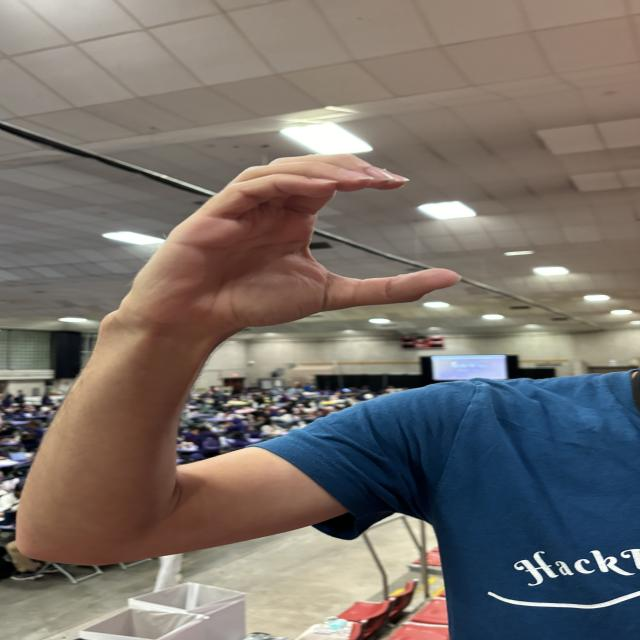C: (140, 147, 474, 313)
